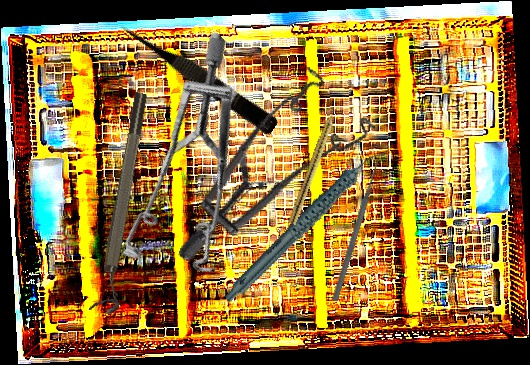Fixation Ring: (88, 91, 161, 316)
Handpiece: (200, 146, 410, 305), (287, 104, 342, 227)
Micro Scissor: (116, 13, 282, 137)
Pusher: (330, 158, 383, 303)
Speculum: (54, 29, 336, 309), (177, 46, 387, 304)
